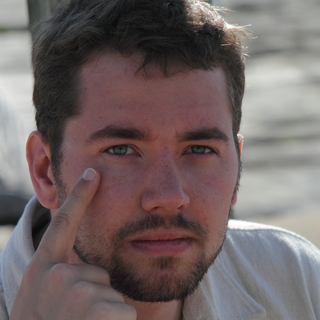eye: (94, 141, 154, 161), (176, 143, 221, 163)
